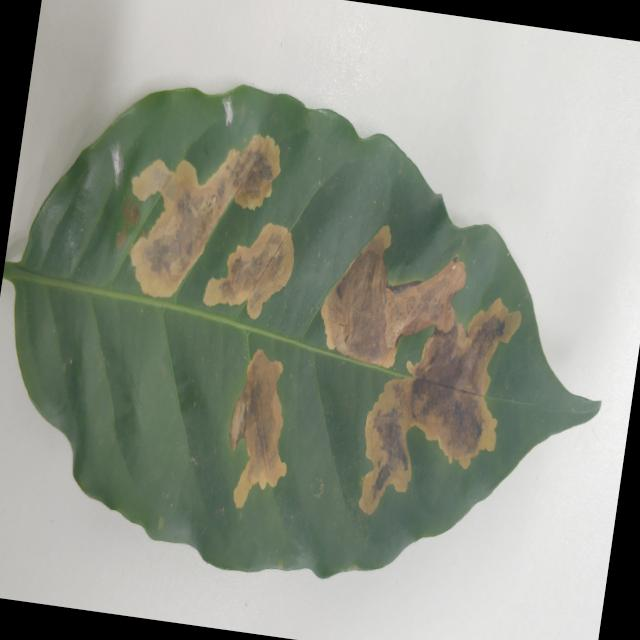PengorokDaunKopi: (359, 299, 521, 514), (130, 134, 280, 297), (321, 226, 465, 368), (229, 350, 286, 508), (204, 224, 294, 319), (385, 261, 465, 345), (116, 199, 139, 249), (111, 143, 122, 186), (222, 96, 233, 126)
